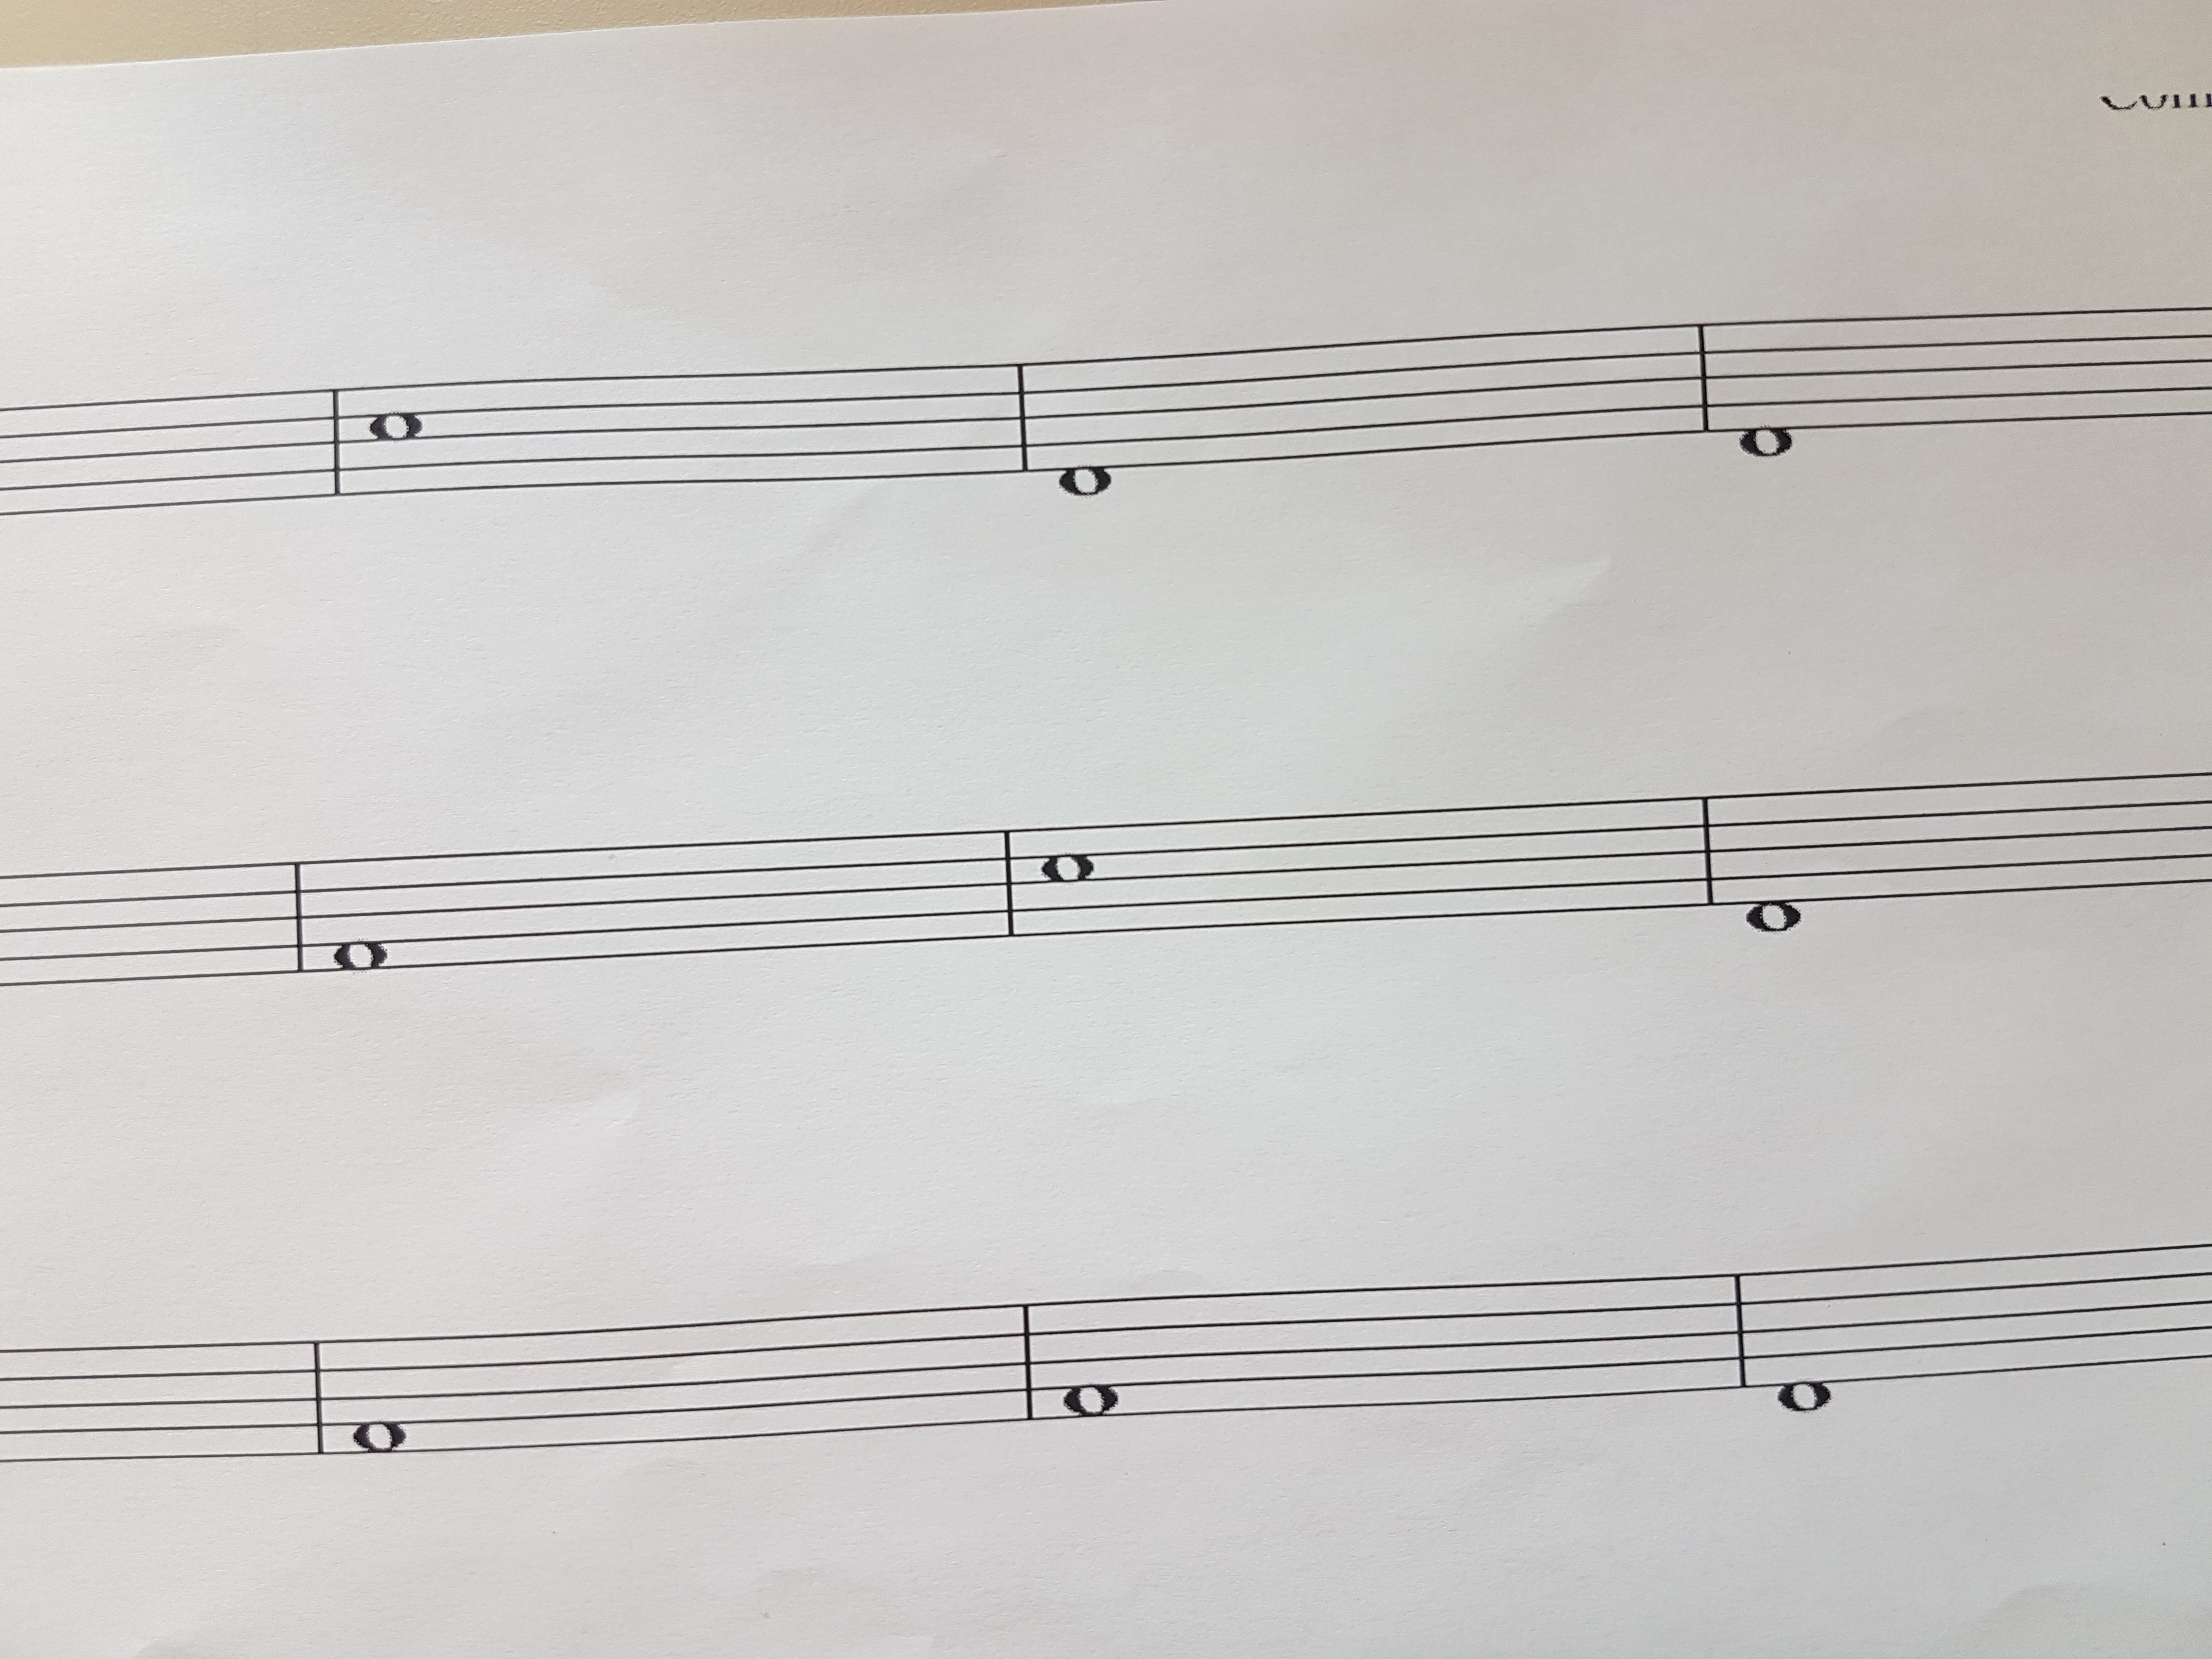pipe: (1010, 1288, 1043, 1436), (1691, 781, 1724, 920), (284, 847, 315, 990), (1008, 349, 1040, 486), (1691, 312, 1723, 446), (1726, 1260, 1756, 1401), (995, 816, 1024, 950), (303, 1328, 331, 1469), (324, 376, 352, 511)
semibreve_c: (359, 354, 428, 514), (1035, 803, 1099, 960)
semibreve_d: (1770, 1241, 1841, 1450), (1731, 291, 1804, 486), (1050, 331, 1122, 523), (1737, 777, 1811, 955)
semibreve_f: (341, 1317, 415, 1483), (324, 831, 394, 1002), (1059, 1279, 1127, 1450)
